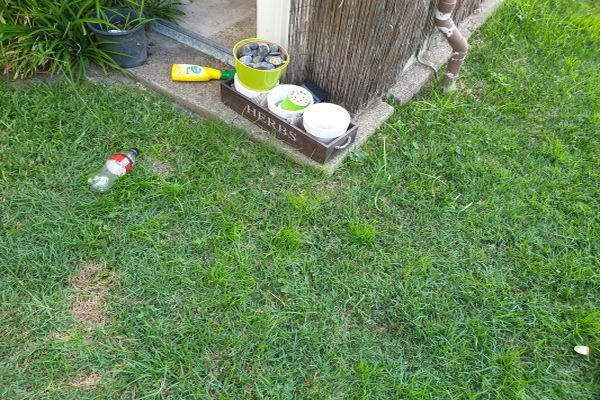Plastic Bottle: (86, 147, 140, 194)
